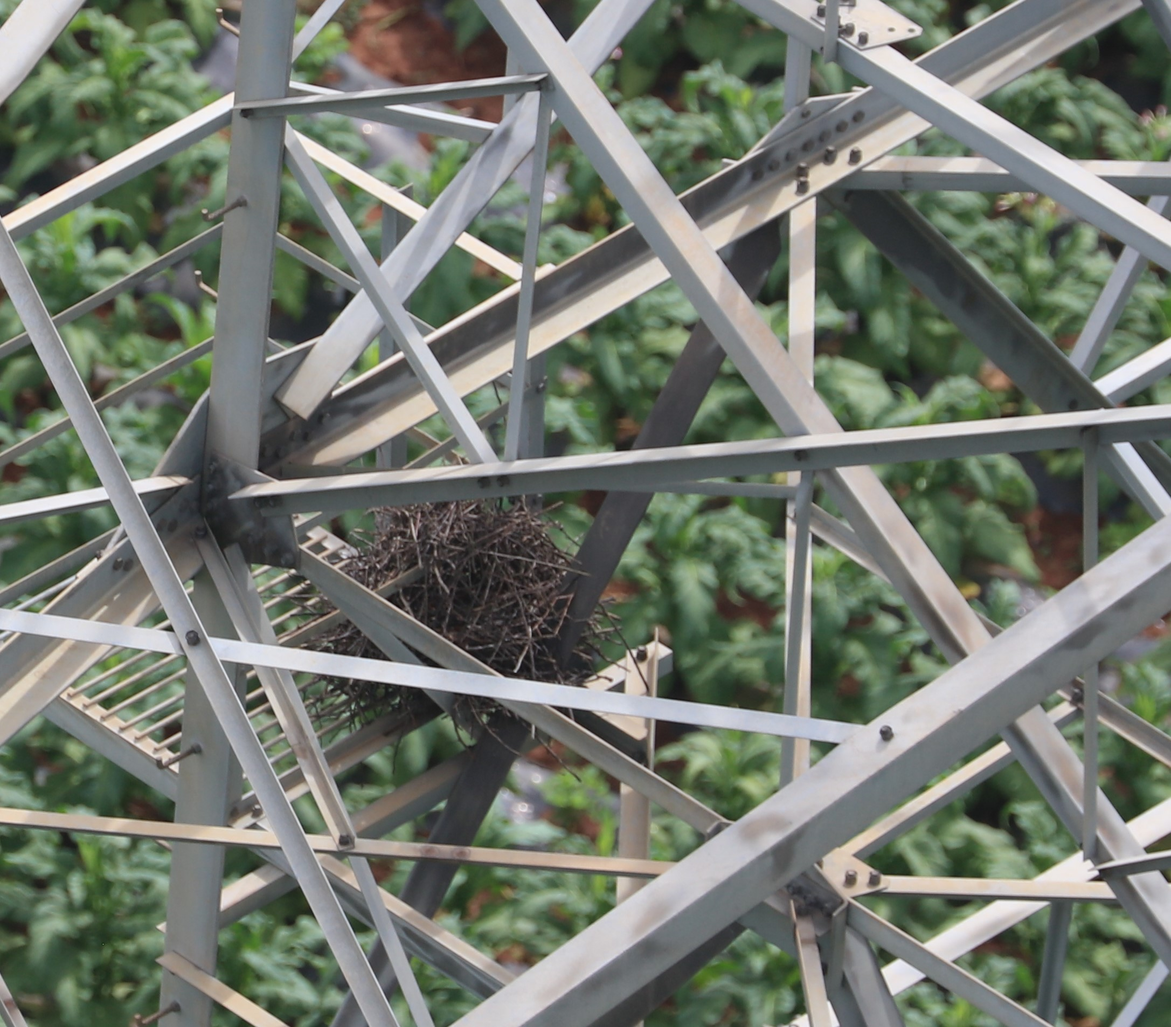nest: (321, 481, 611, 727)
